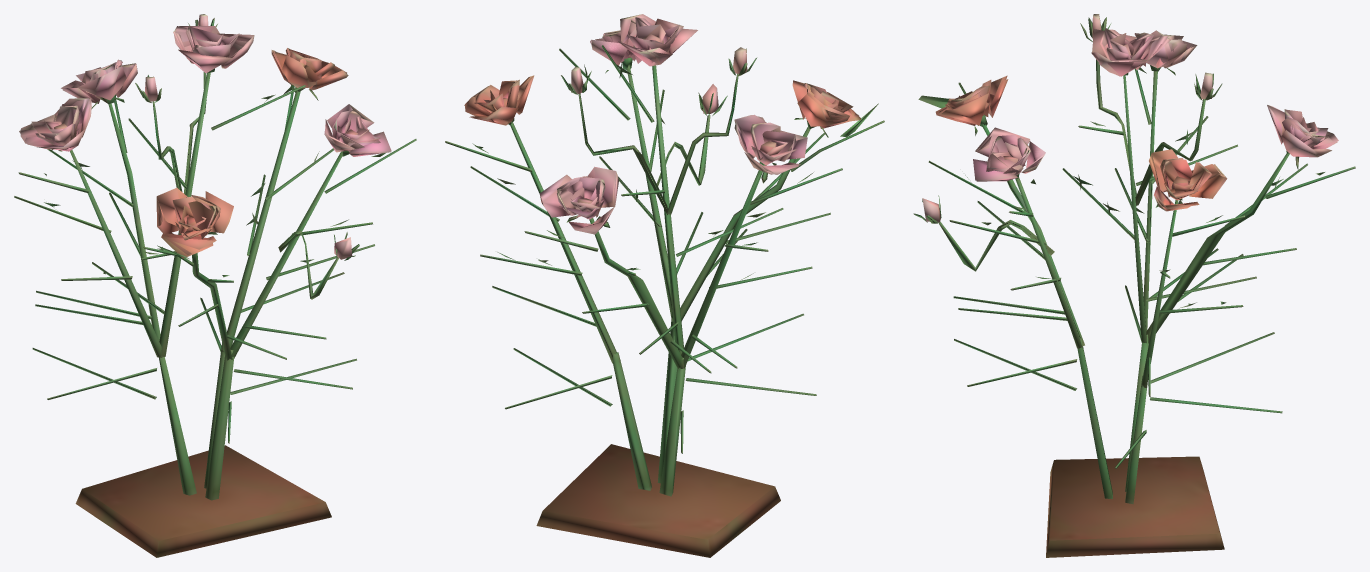
File: rose.glb
3 renders of one model, left to right at view 1: azimuth 30°, elevation 25°; view 2: azimuth 150°, elevation 25°; view 3: azimuth 270°, elevation 25°, orthographic.
Visible parts, largest first — view 1: rose_body; view 2: rose_body; view 3: rose_body.
Boxes of the visible parts, left/top/right/bottom form: rose_body: left=14, top=14, right=416, bottom=557; rose_body: left=445, top=14, right=884, bottom=557; rose_body: left=913, top=14, right=1355, bottom=557.
Size of the model in its own units: 0.588 by 0.7643 by 0.6395.
Materials: 1 (1 with a texture image).
